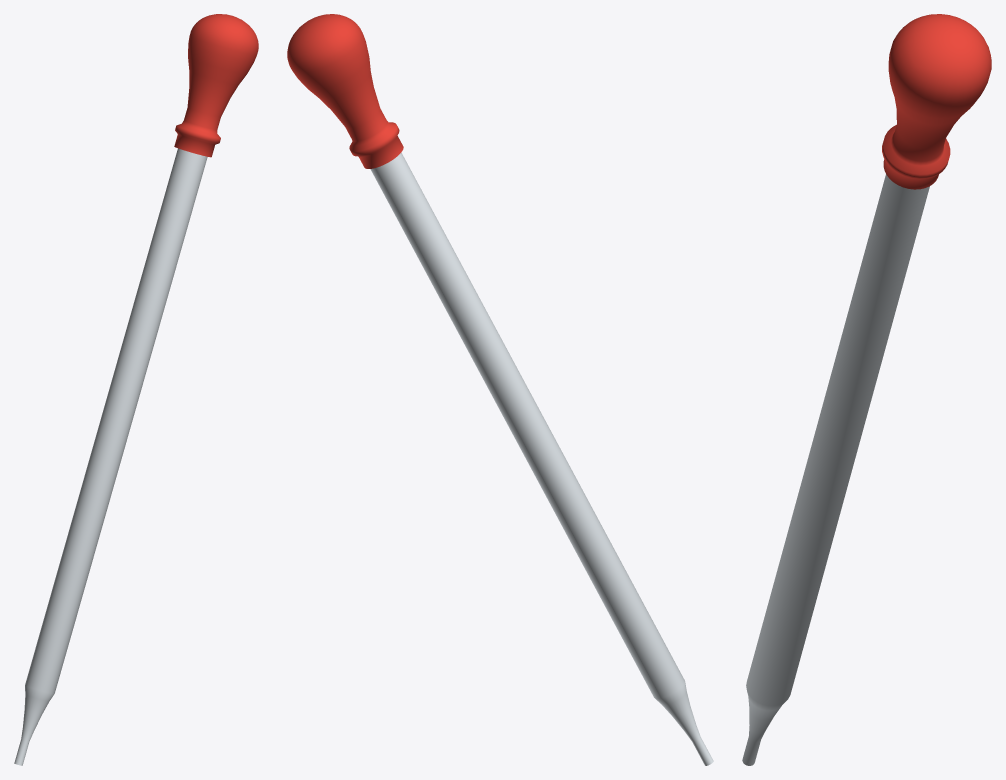
File: Dropper2.obj
The picture shows the model from 3 angles, left to right: view 1: azimuth 30°, elevation 25°; view 2: azimuth 150°, elevation 25°; view 3: azimuth 270°, elevation 25°; orthographic projection. The views are drawn at different scales.
Visible parts, largest first — view 1: Dropper2; view 2: Dropper2; view 3: Dropper2.
Part boxes in pixels (x1=…): Dropper2: x1=14, y1=14, x2=258, y2=765; Dropper2: x1=287, y1=14, x2=713, y2=765; Dropper2: x1=742, y1=14, x2=991, y2=765.
Bounding box in the file's own units: 3.49 × 6.99 × 1.69.
